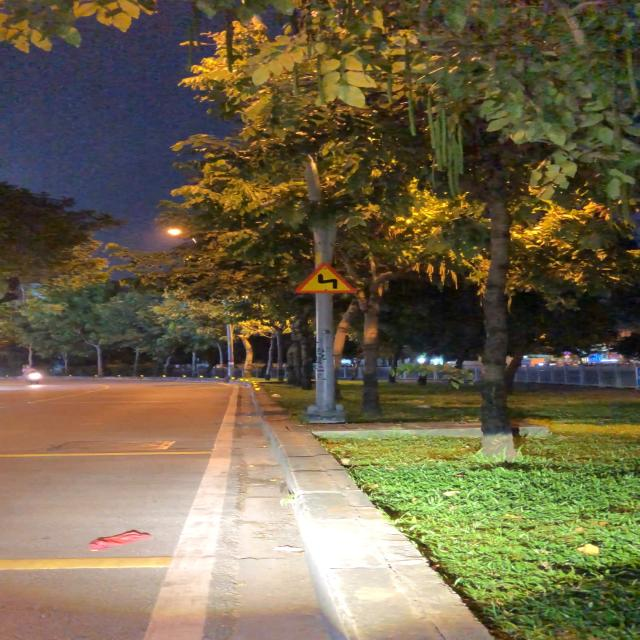Bien bao nhieu cho ngoat nguy hiem lien tiep: (293, 260, 356, 295)
